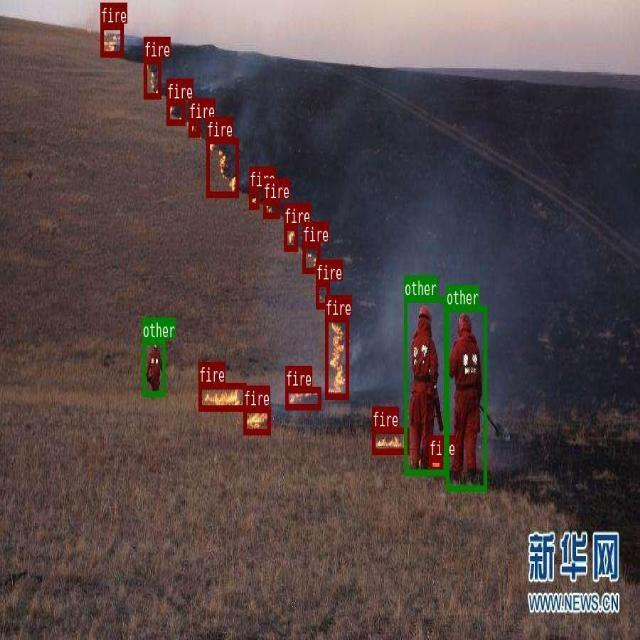fire: (325, 315, 348, 399), (206, 137, 238, 196), (198, 383, 246, 410), (372, 427, 409, 453), (285, 386, 321, 408), (100, 23, 123, 56), (243, 406, 270, 433), (144, 58, 161, 98), (302, 242, 320, 272), (166, 99, 184, 124), (283, 223, 297, 250), (315, 280, 329, 307), (263, 199, 279, 218), (428, 456, 442, 472), (249, 187, 259, 208), (188, 119, 199, 136)
